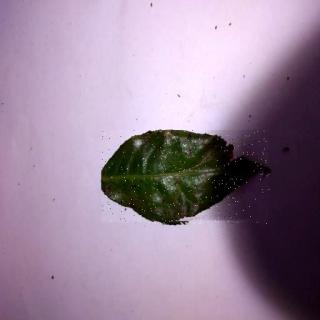Bird Eye Spot: (103, 132, 271, 226)
